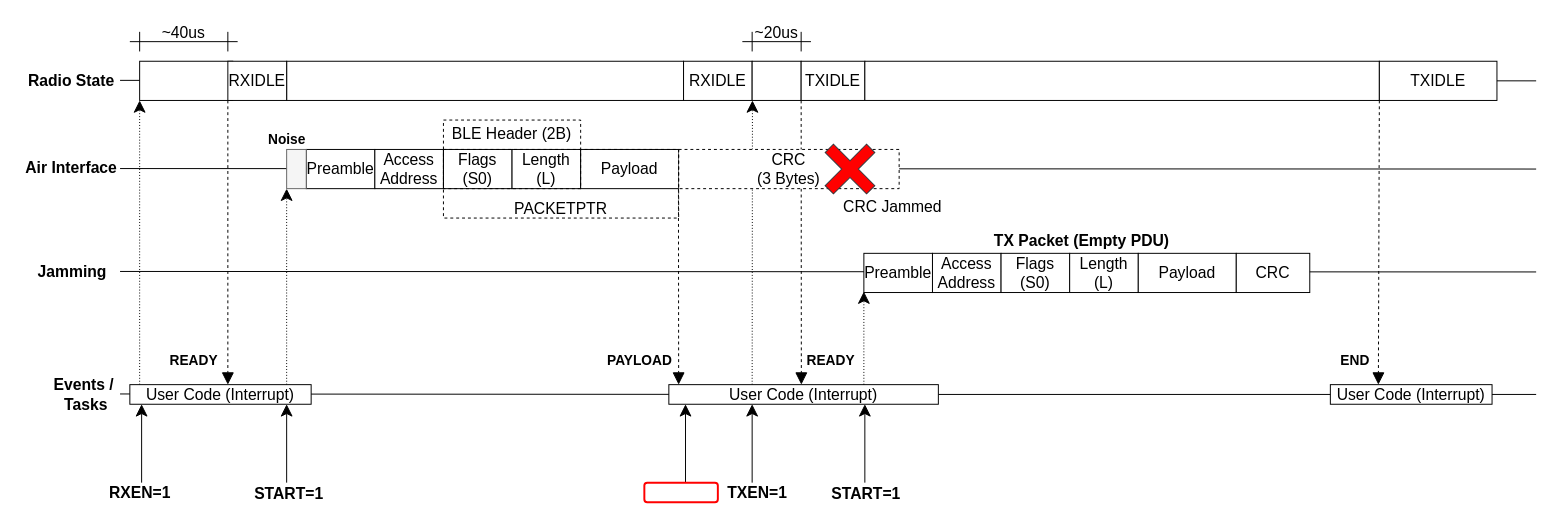
This 1554x521 diagram has some shape labels left out. The shapes that lost their labels are listed below. From the top down, each one's centre as x and y in pixels, then its label:
At [186,80]: "RXRU".
At [485,80]: "RX".
At [776,80]: "TXRU".
At [1121,80]: "TX".
At [296,168]: "'X'".
At [680,492]: "STOP=1".
